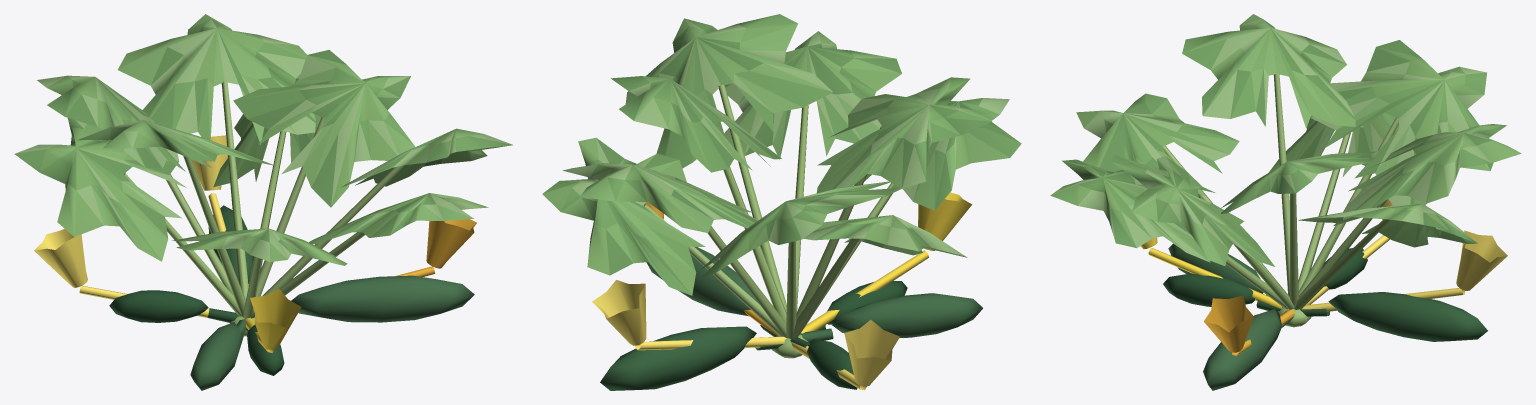
Rendered from courgette_verte_mur.glb.
3 renders of one model, left to right at view 1: azimuth 30°, elevation 25°; view 2: azimuth 150°, elevation 25°; view 3: azimuth 270°, elevation 25°, orthographic. The views are drawn at different scales.
Parts seen in each view (by area): view 1: Courgette_Feuilles, Courgette_Fruits, Courgette_Petioles, Courgette_Fleurs; view 2: Courgette_Feuilles, Courgette_Fruits, Courgette_Petioles, Courgette_Fleurs; view 3: Courgette_Feuilles, Courgette_Fruits, Courgette_Petioles, Courgette_Fleurs.
Boxes of the visible parts, <box> form: Courgette_Feuilles: <box>14,14,512,265</box>; Courgette_Fruits: <box>109,205,474,390</box>; Courgette_Petioles: <box>123,81,404,318</box>; Courgette_Fleurs: <box>34,135,476,352</box>; Courgette_Feuilles: <box>542,14,1021,295</box>; Courgette_Fruits: <box>600,246,982,390</box>; Courgette_Petioles: <box>643,84,893,338</box>; Courgette_Fleurs: <box>592,192,971,390</box>; Courgette_Feuilles: <box>1050,14,1521,266</box>; Courgette_Fruits: <box>1163,243,1487,390</box>; Courgette_Petioles: <box>1162,74,1399,309</box>; Courgette_Fleurs: <box>1140,199,1507,356</box>.
Bounding box in the file's own units: 0.8093 × 0.5214 × 0.9198.
